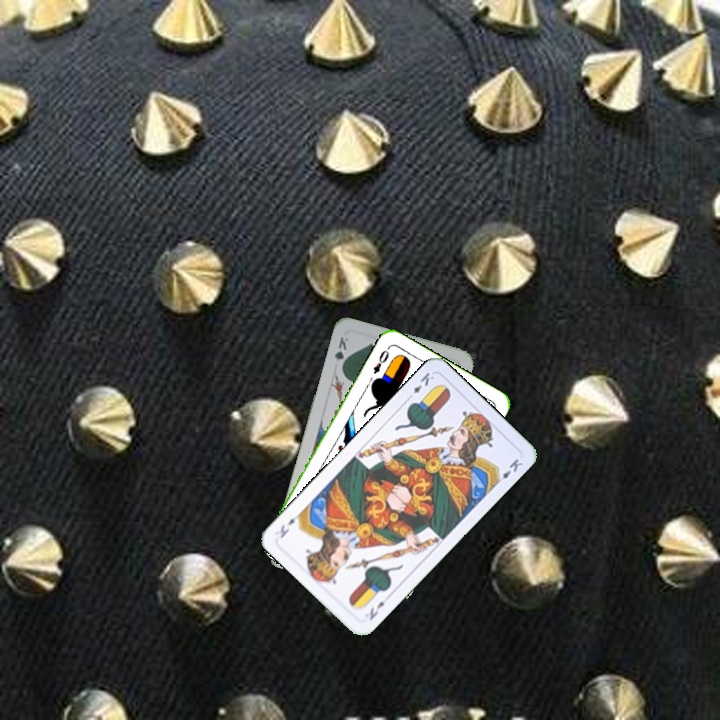EK: (403, 368, 437, 403), (365, 597, 387, 623)
EO: (369, 343, 392, 376)
GK: (330, 333, 351, 373)
